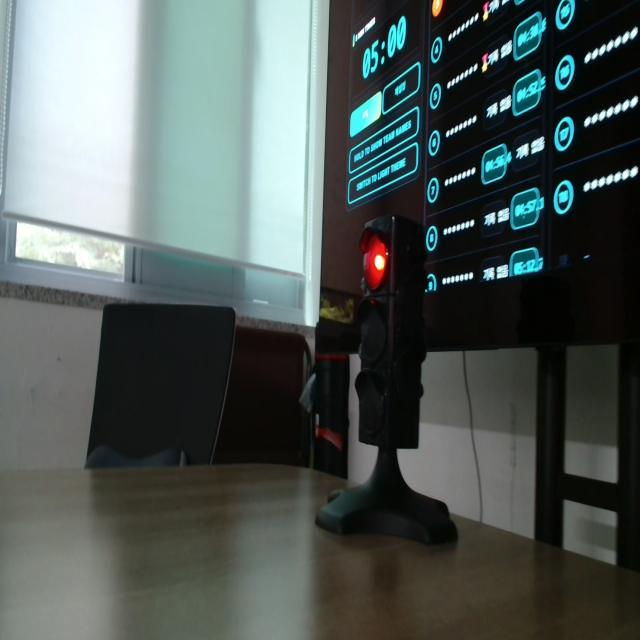red_light: (364, 235, 387, 290)
